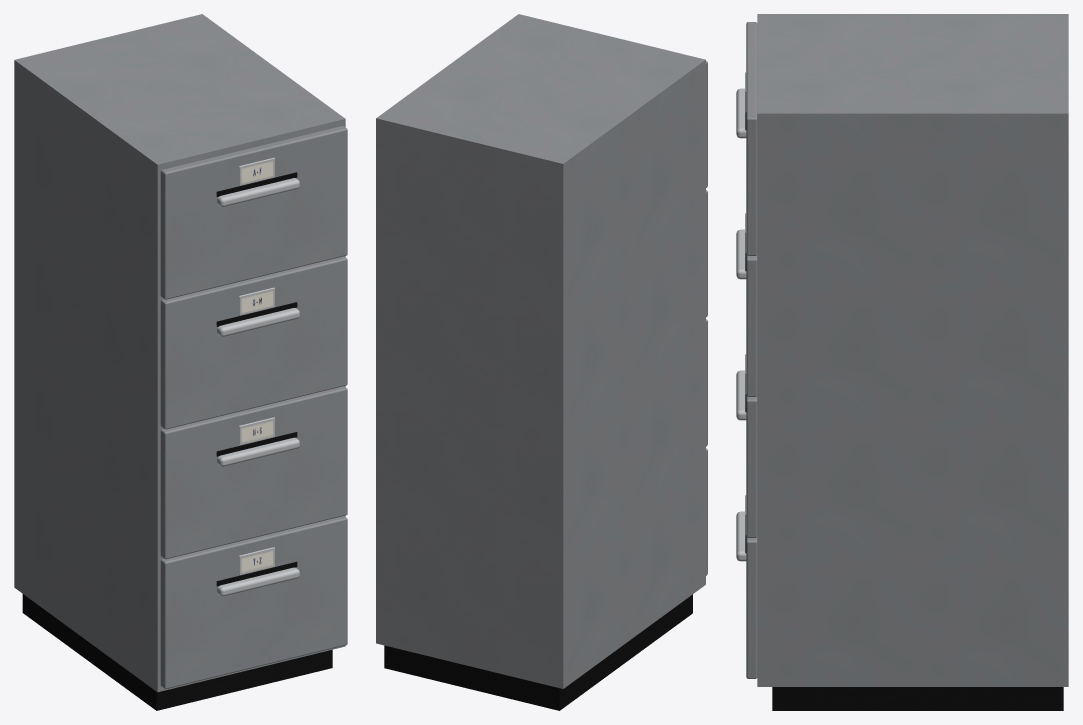
The model's file is FilingCabinet.obj.
The picture shows the model from 3 angles, left to right: view 1: azimuth 30°, elevation 25°; view 2: azimuth 150°, elevation 25°; view 3: azimuth 270°, elevation 25°; orthographic projection. The views are drawn at different scales.
Parts seen in each view (by area): view 1: Body, Plinth, Handle, Label, Recess; view 2: Body, Plinth; view 3: Body, Plinth, Handle.
Part boxes in pixels (x1=…): Body: x1=14, y1=14, x2=347, y2=692; Plinth: x1=22, y1=594, x2=332, y2=710; Handle: x1=217, y1=157, x2=299, y2=596; Label: x1=241, y1=160, x2=273, y2=573; Recess: x1=216, y1=172, x2=297, y2=586; Body: x1=376, y1=14, x2=707, y2=688; Plinth: x1=384, y1=594, x2=692, y2=710; Body: x1=746, y1=14, x2=1068, y2=686; Plinth: x1=772, y1=687, x2=1063, y2=710; Handle: x1=736, y1=72, x2=746, y2=561.
Size of the model in its own units: 0.47 by 1.32 by 0.662.
Materials: 5 (3 with a texture image).
